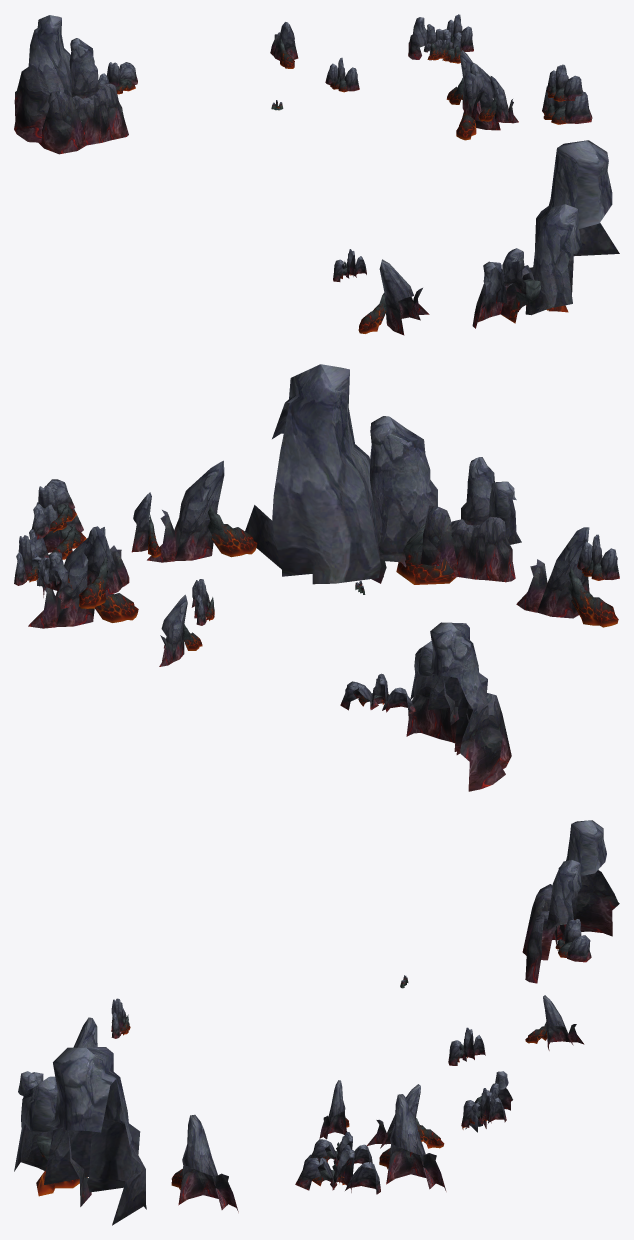
The model's file is Login_stone_01.FBX.
3 renders of one model, top to bottom at view 1: azimuth 30°, elevation 25°; view 2: azimuth 150°, elevation 25°; view 3: azimuth 270°, elevation 25°, orthographic. The views are drawn at different scales.
Parts seen in each view (by area): view 1: Login_stone_01; view 2: Login_stone_01; view 3: Login_stone_01.
Part boxes in pixels (bbox=[...]): Login_stone_01: bbox=[14, 14, 619, 335]; Login_stone_01: bbox=[14, 364, 619, 791]; Login_stone_01: bbox=[14, 820, 619, 1225].
Size of the model in its own units: 214 by 87.91 by 216.
